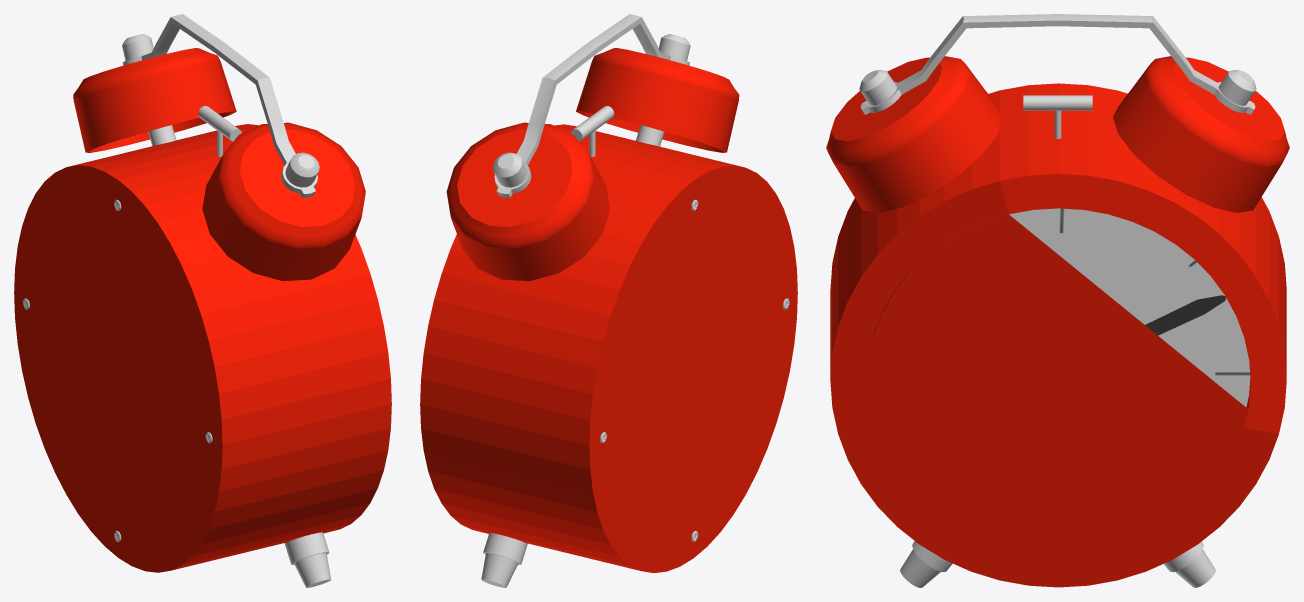
Rendered from Clock1.fbx.
The picture shows the model from 3 angles, left to right: view 1: azimuth 30°, elevation 25°; view 2: azimuth 150°, elevation 25°; view 3: azimuth 270°, elevation 25°; orthographic projection. The views are drawn at different scales.
Parts seen in each view (by area): view 1: Cylinder, Clock, DoubleBells, MetalBracket, Hammer; view 2: Cylinder, Clock, DoubleBells, MetalBracket, Hammer; view 3: Cylinder, DoubleBells, Clock, MetalBracket, Hammer.
Part boxes in pixels (<box>): Cylinder: <box>14,124,391,572</box>; Clock: <box>30,197,205,540</box>; DoubleBells: <box>73,14,365,281</box>; MetalBracket: <box>284,532,331,587</box>; Hammer: <box>198,106,241,156</box>; Cylinder: <box>420,124,797,572</box>; Clock: <box>606,198,781,540</box>; DoubleBells: <box>446,14,739,281</box>; MetalBracket: <box>481,533,527,587</box>; Hammer: <box>570,106,614,156</box>; Cylinder: <box>830,83,1286,587</box>; DoubleBells: <box>826,14,1289,212</box>; Clock: <box>1009,208,1250,406</box>; MetalBracket: <box>900,541,1215,587</box>; Hammer: <box>1023,95,1092,138</box>.
Size of the model in its own units: 23.22 by 64.04 by 48.7.
Materials: 4 (1 with a texture image).
